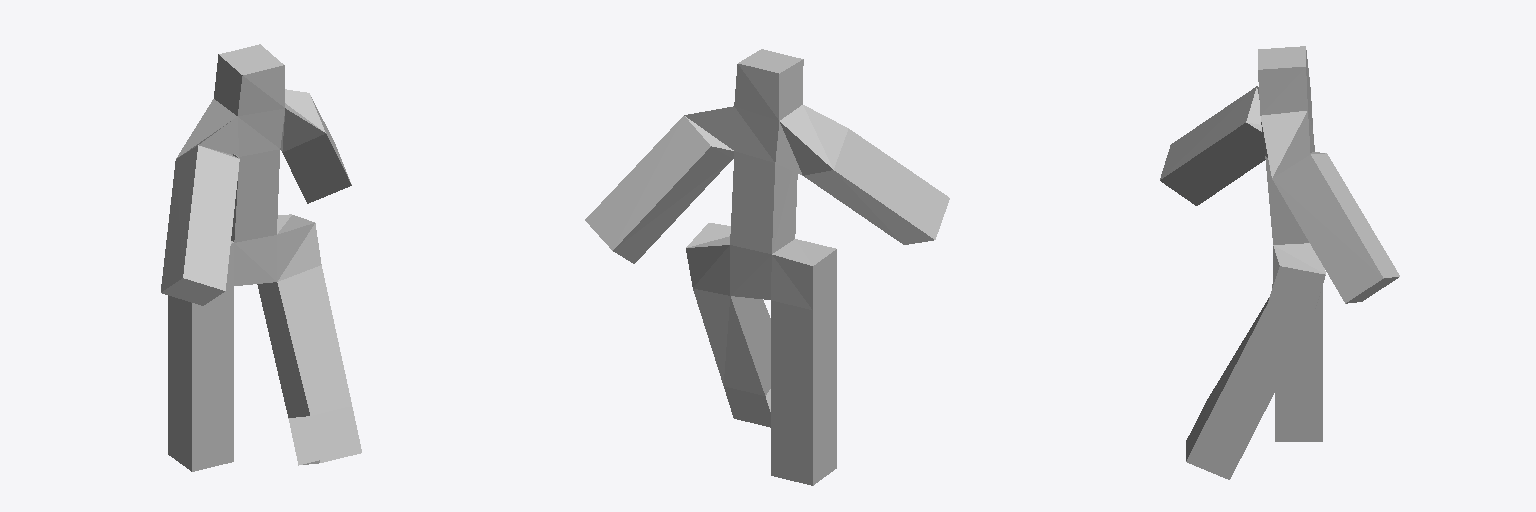
Rendered from cuboid_000008.obj.
3 views of the same model, side by side, from view 1: azimuth 30°, elevation 25°; view 2: azimuth 150°, elevation 25°; view 3: azimuth 270°, elevation 25° (orthographic).
Visible parts, largest first — view 1: Cube; view 2: Cube; view 3: Cube.
Boxes of the visible parts, <box> form: Cube: <box>161,44,361,471</box>; Cube: <box>585,49,949,485</box>; Cube: <box>1160,46,1399,479</box>.
Bounding box in the file's own units: 3.13 × 4.51 × 2.49.